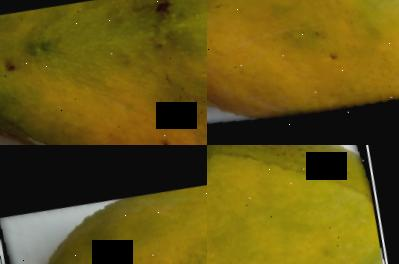PartiallyRipe: (0, 0, 207, 145), (0, 153, 207, 264), (207, 145, 394, 264)
Ripe: (207, 0, 399, 145)
